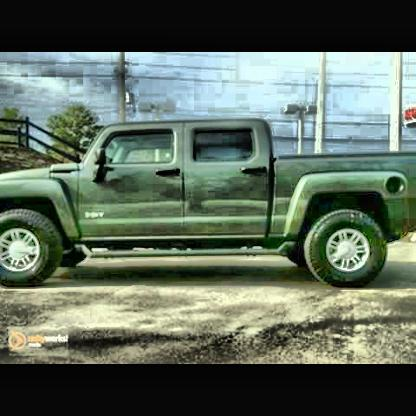HUMMER H3T Crew Cab 2010: (2, 120, 416, 291)
